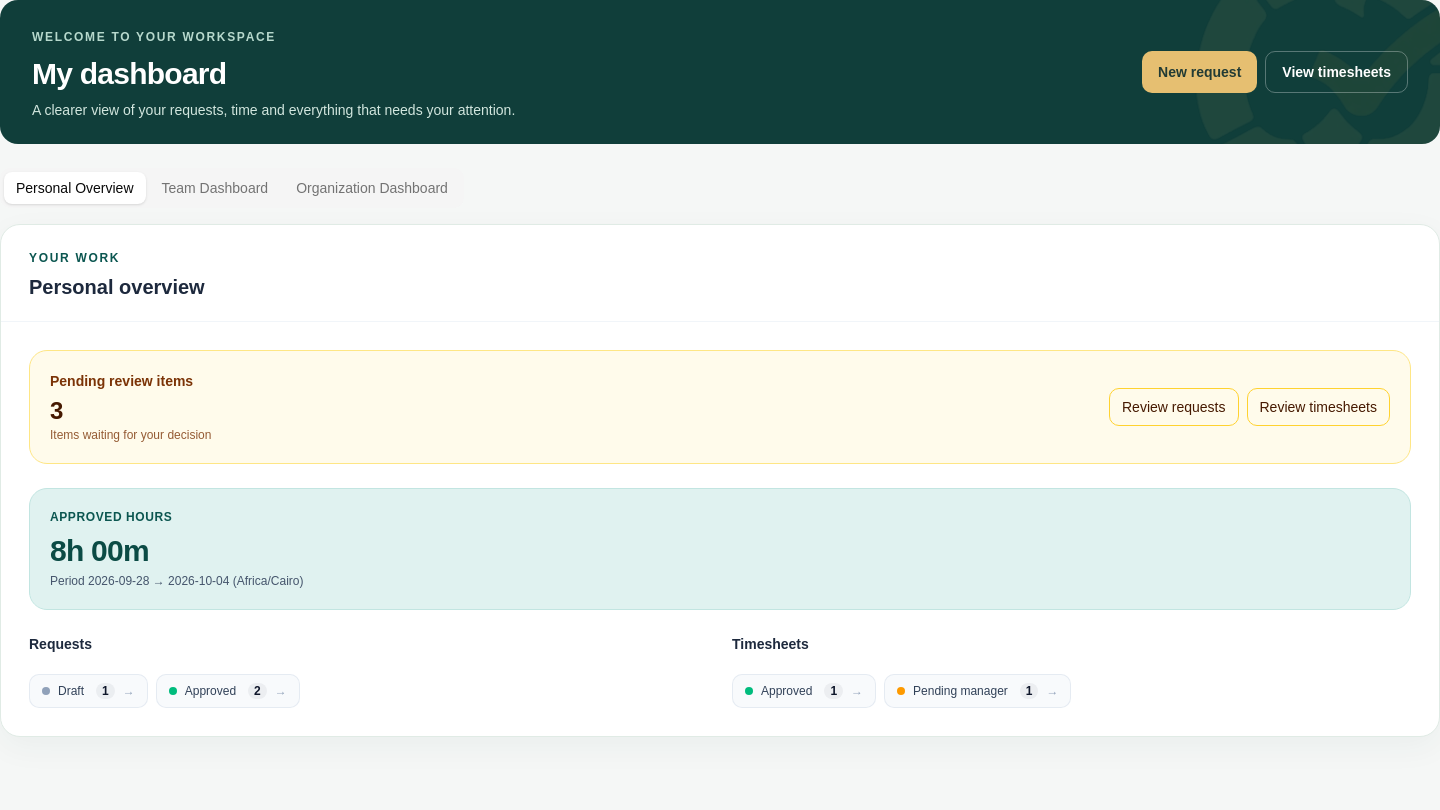
Scenario: DashboardPage › offers HR separate team and organization views
Expected: the tab "Team dashboard" is shown, [150,172,280,204]
What coordinates should you click on to do the following:
click the tab "Organization dashboard"
I would click on:
 (372, 188)
Its box is [284,172,460,204].
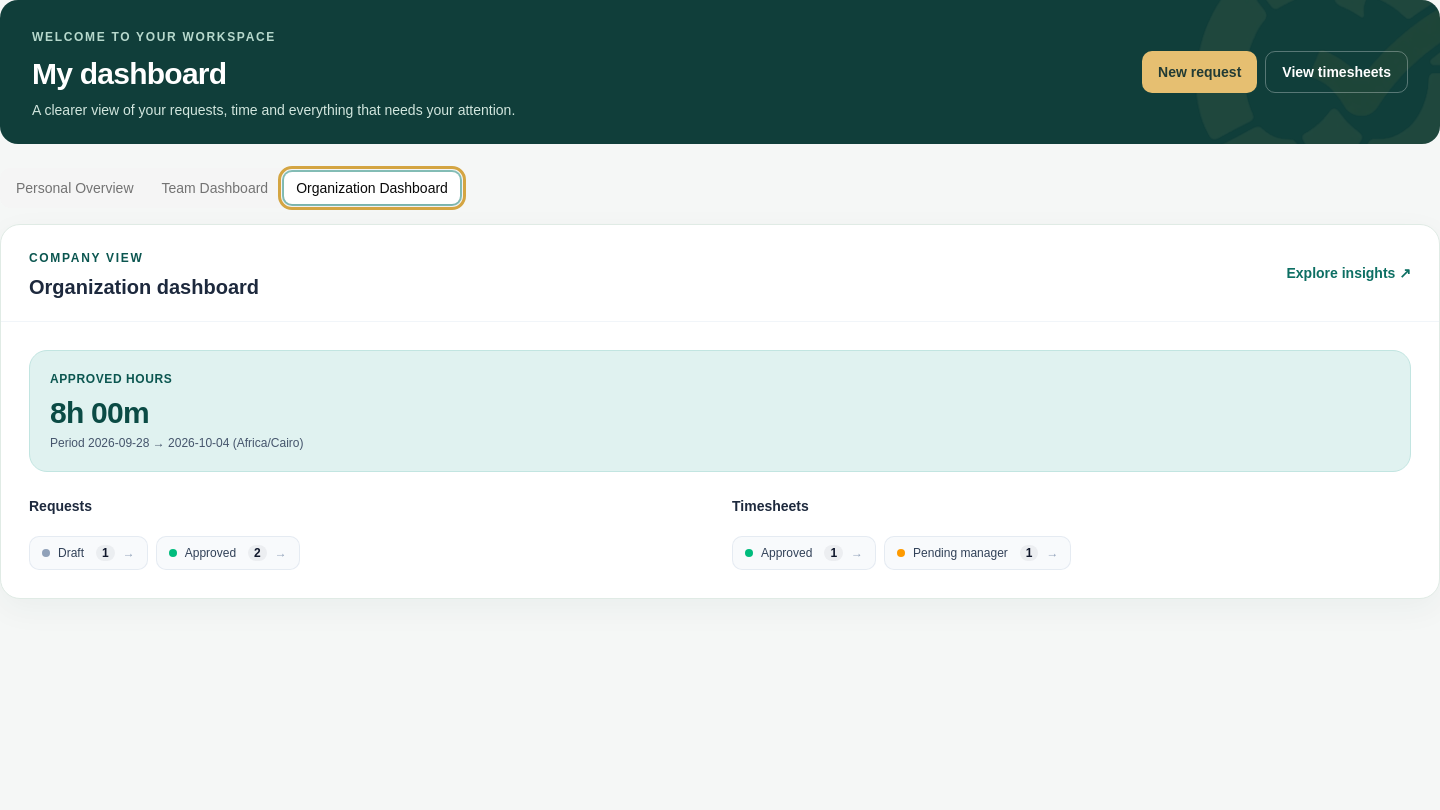
Expected: the element "Organization dashboard" is shown, [0,224,1439,599]
